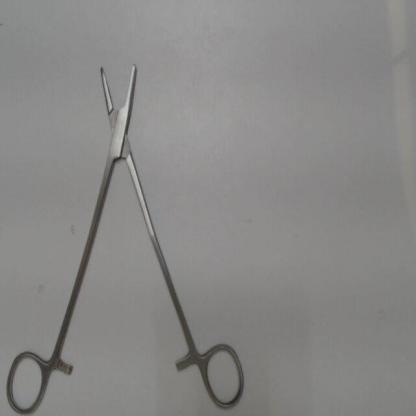8 Mayo Needle Holder: (3, 54, 251, 415)
